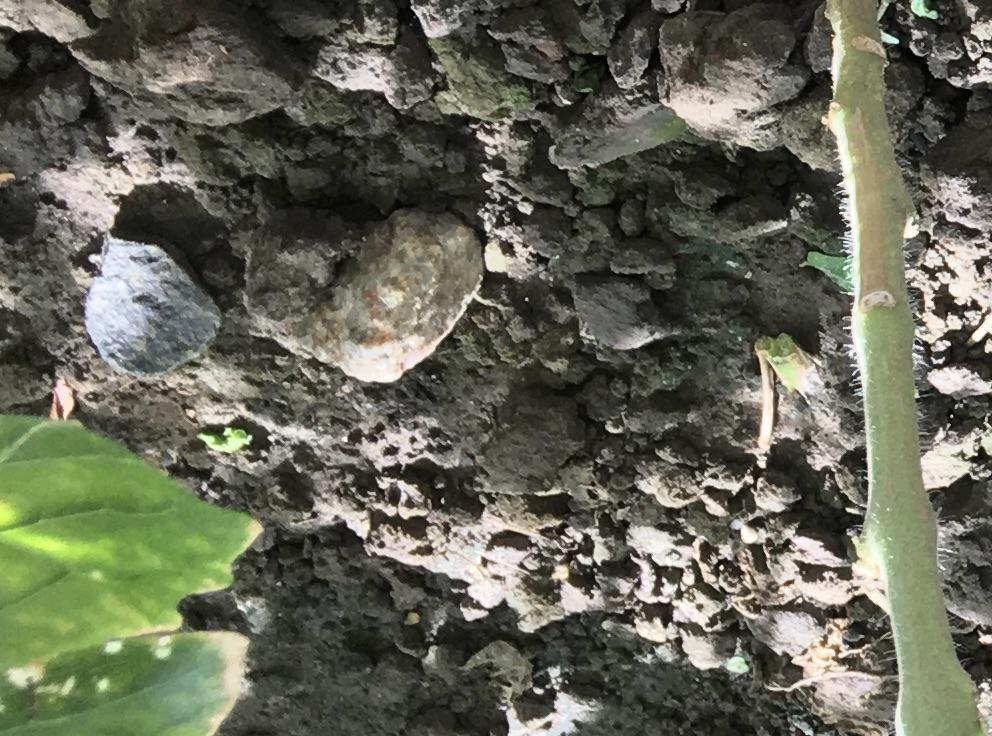block: (240, 206, 479, 387), (653, 7, 798, 160)
